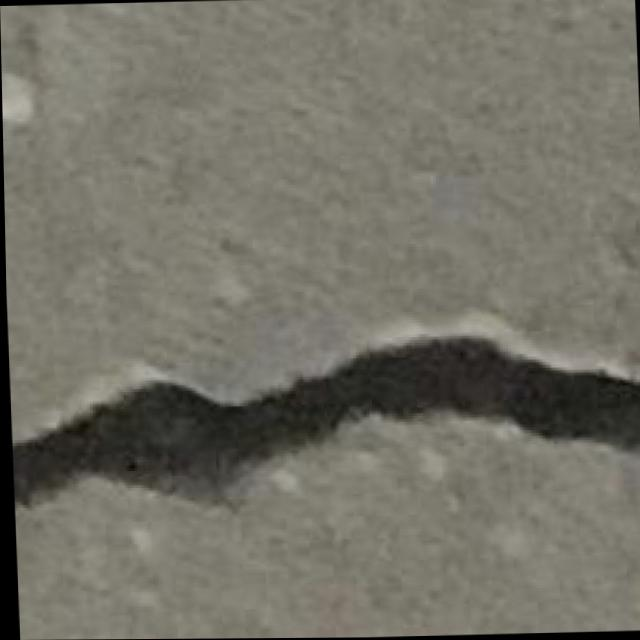Crack: (9, 329, 640, 513)
